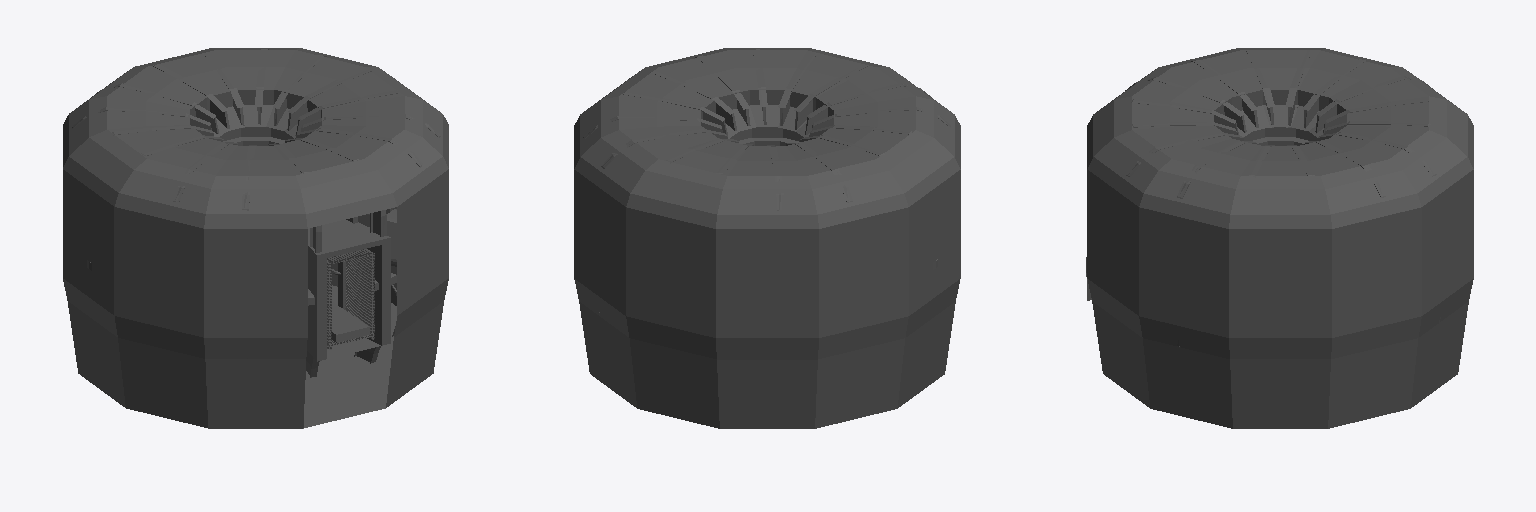
File: tardis-interior-v3.obj
The picture shows the model from 3 angles: view 1: azimuth 30°, elevation 25°; view 2: azimuth 150°, elevation 25°; view 3: azimuth 270°, elevation 25°; orthographic projection.
Parts seen in each view (by area): view 1: Base_Cylinder; view 2: Base_Cylinder; view 3: Base_Cylinder.
Boxes of the visible parts, <box> form: Base_Cylinder: <box>63,48,448,428</box>; Base_Cylinder: <box>574,48,960,428</box>; Base_Cylinder: <box>1086,48,1473,428</box>.
Size of the model in its own units: 10.39 by 8.5 by 10.41.